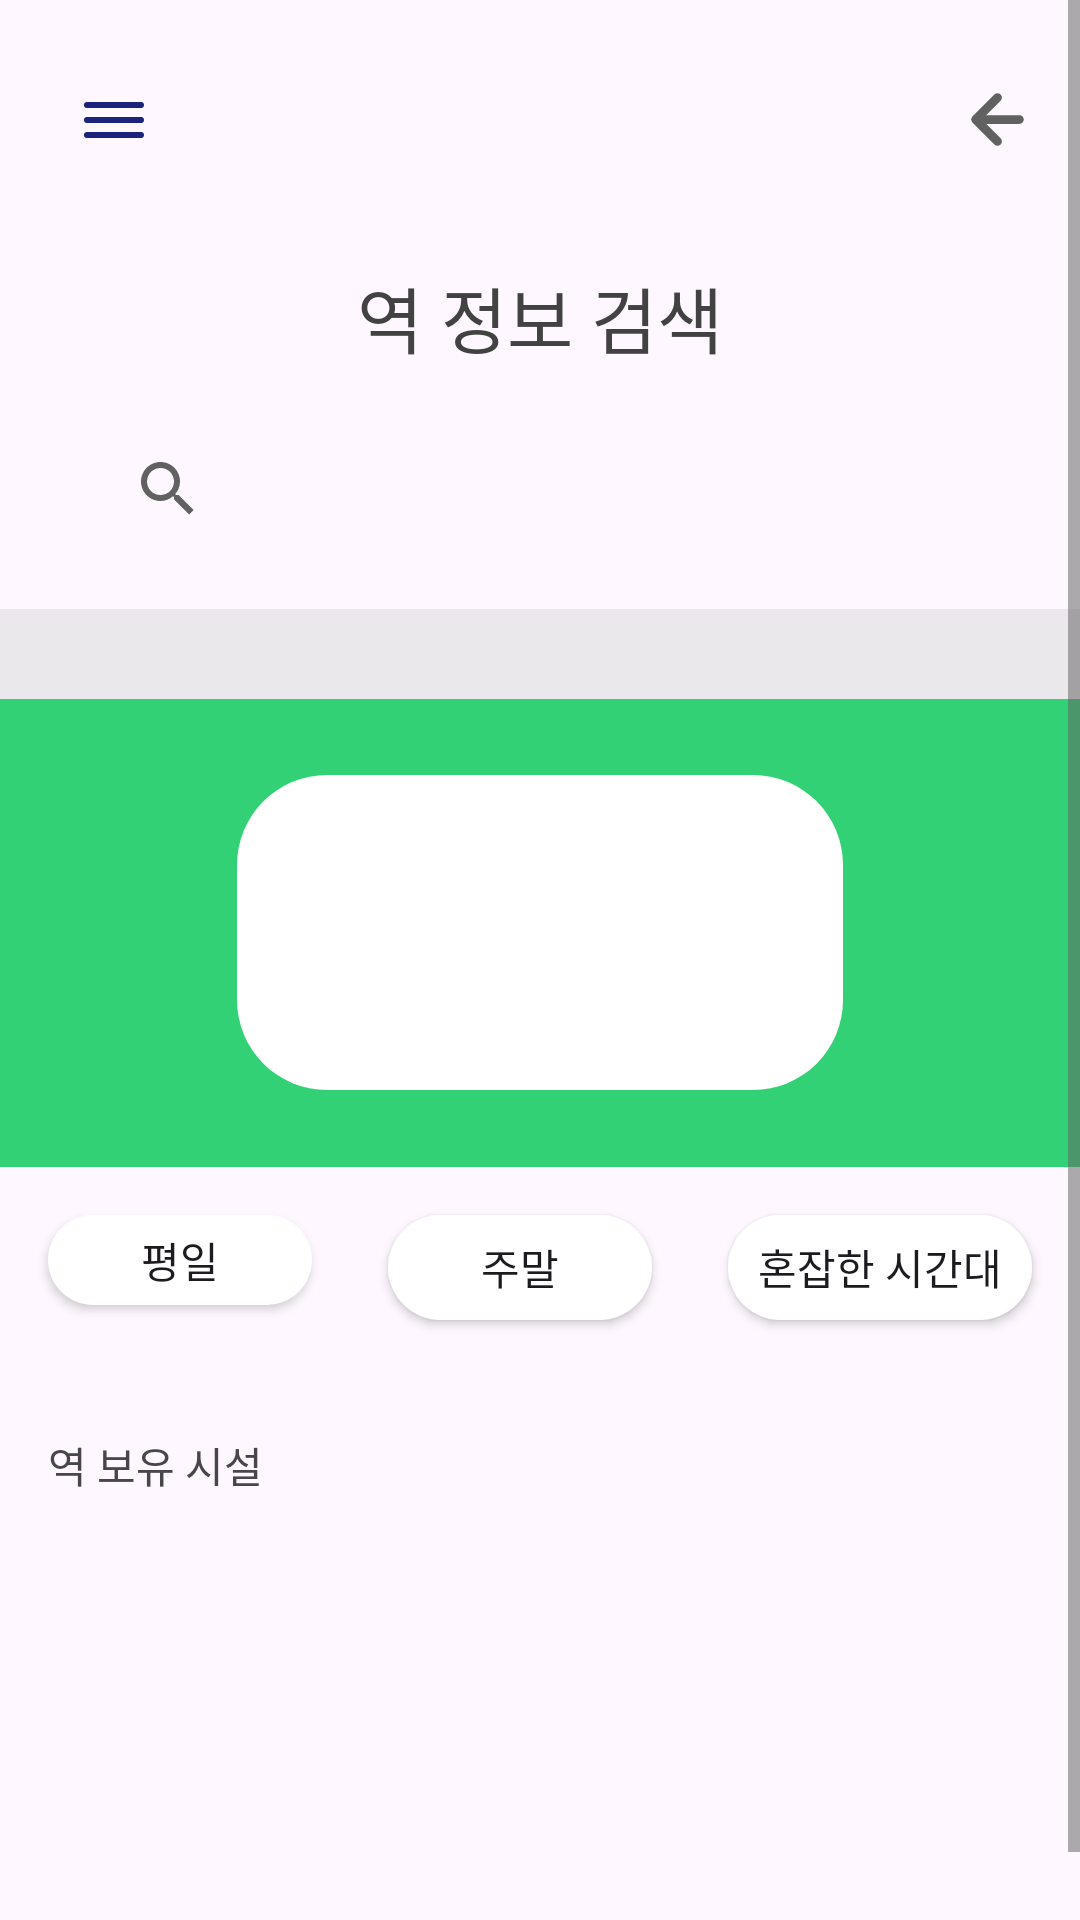

Icons on this 1080×1920 Android screen, each with the point to tap as (x,y):
arrow left: (997,119)
bars: (114,120)
